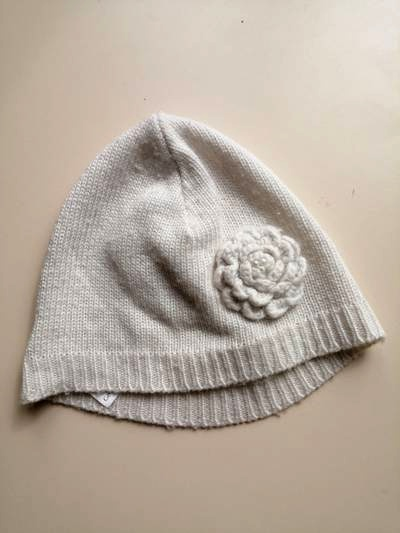Hat: (3, 94, 384, 435)
